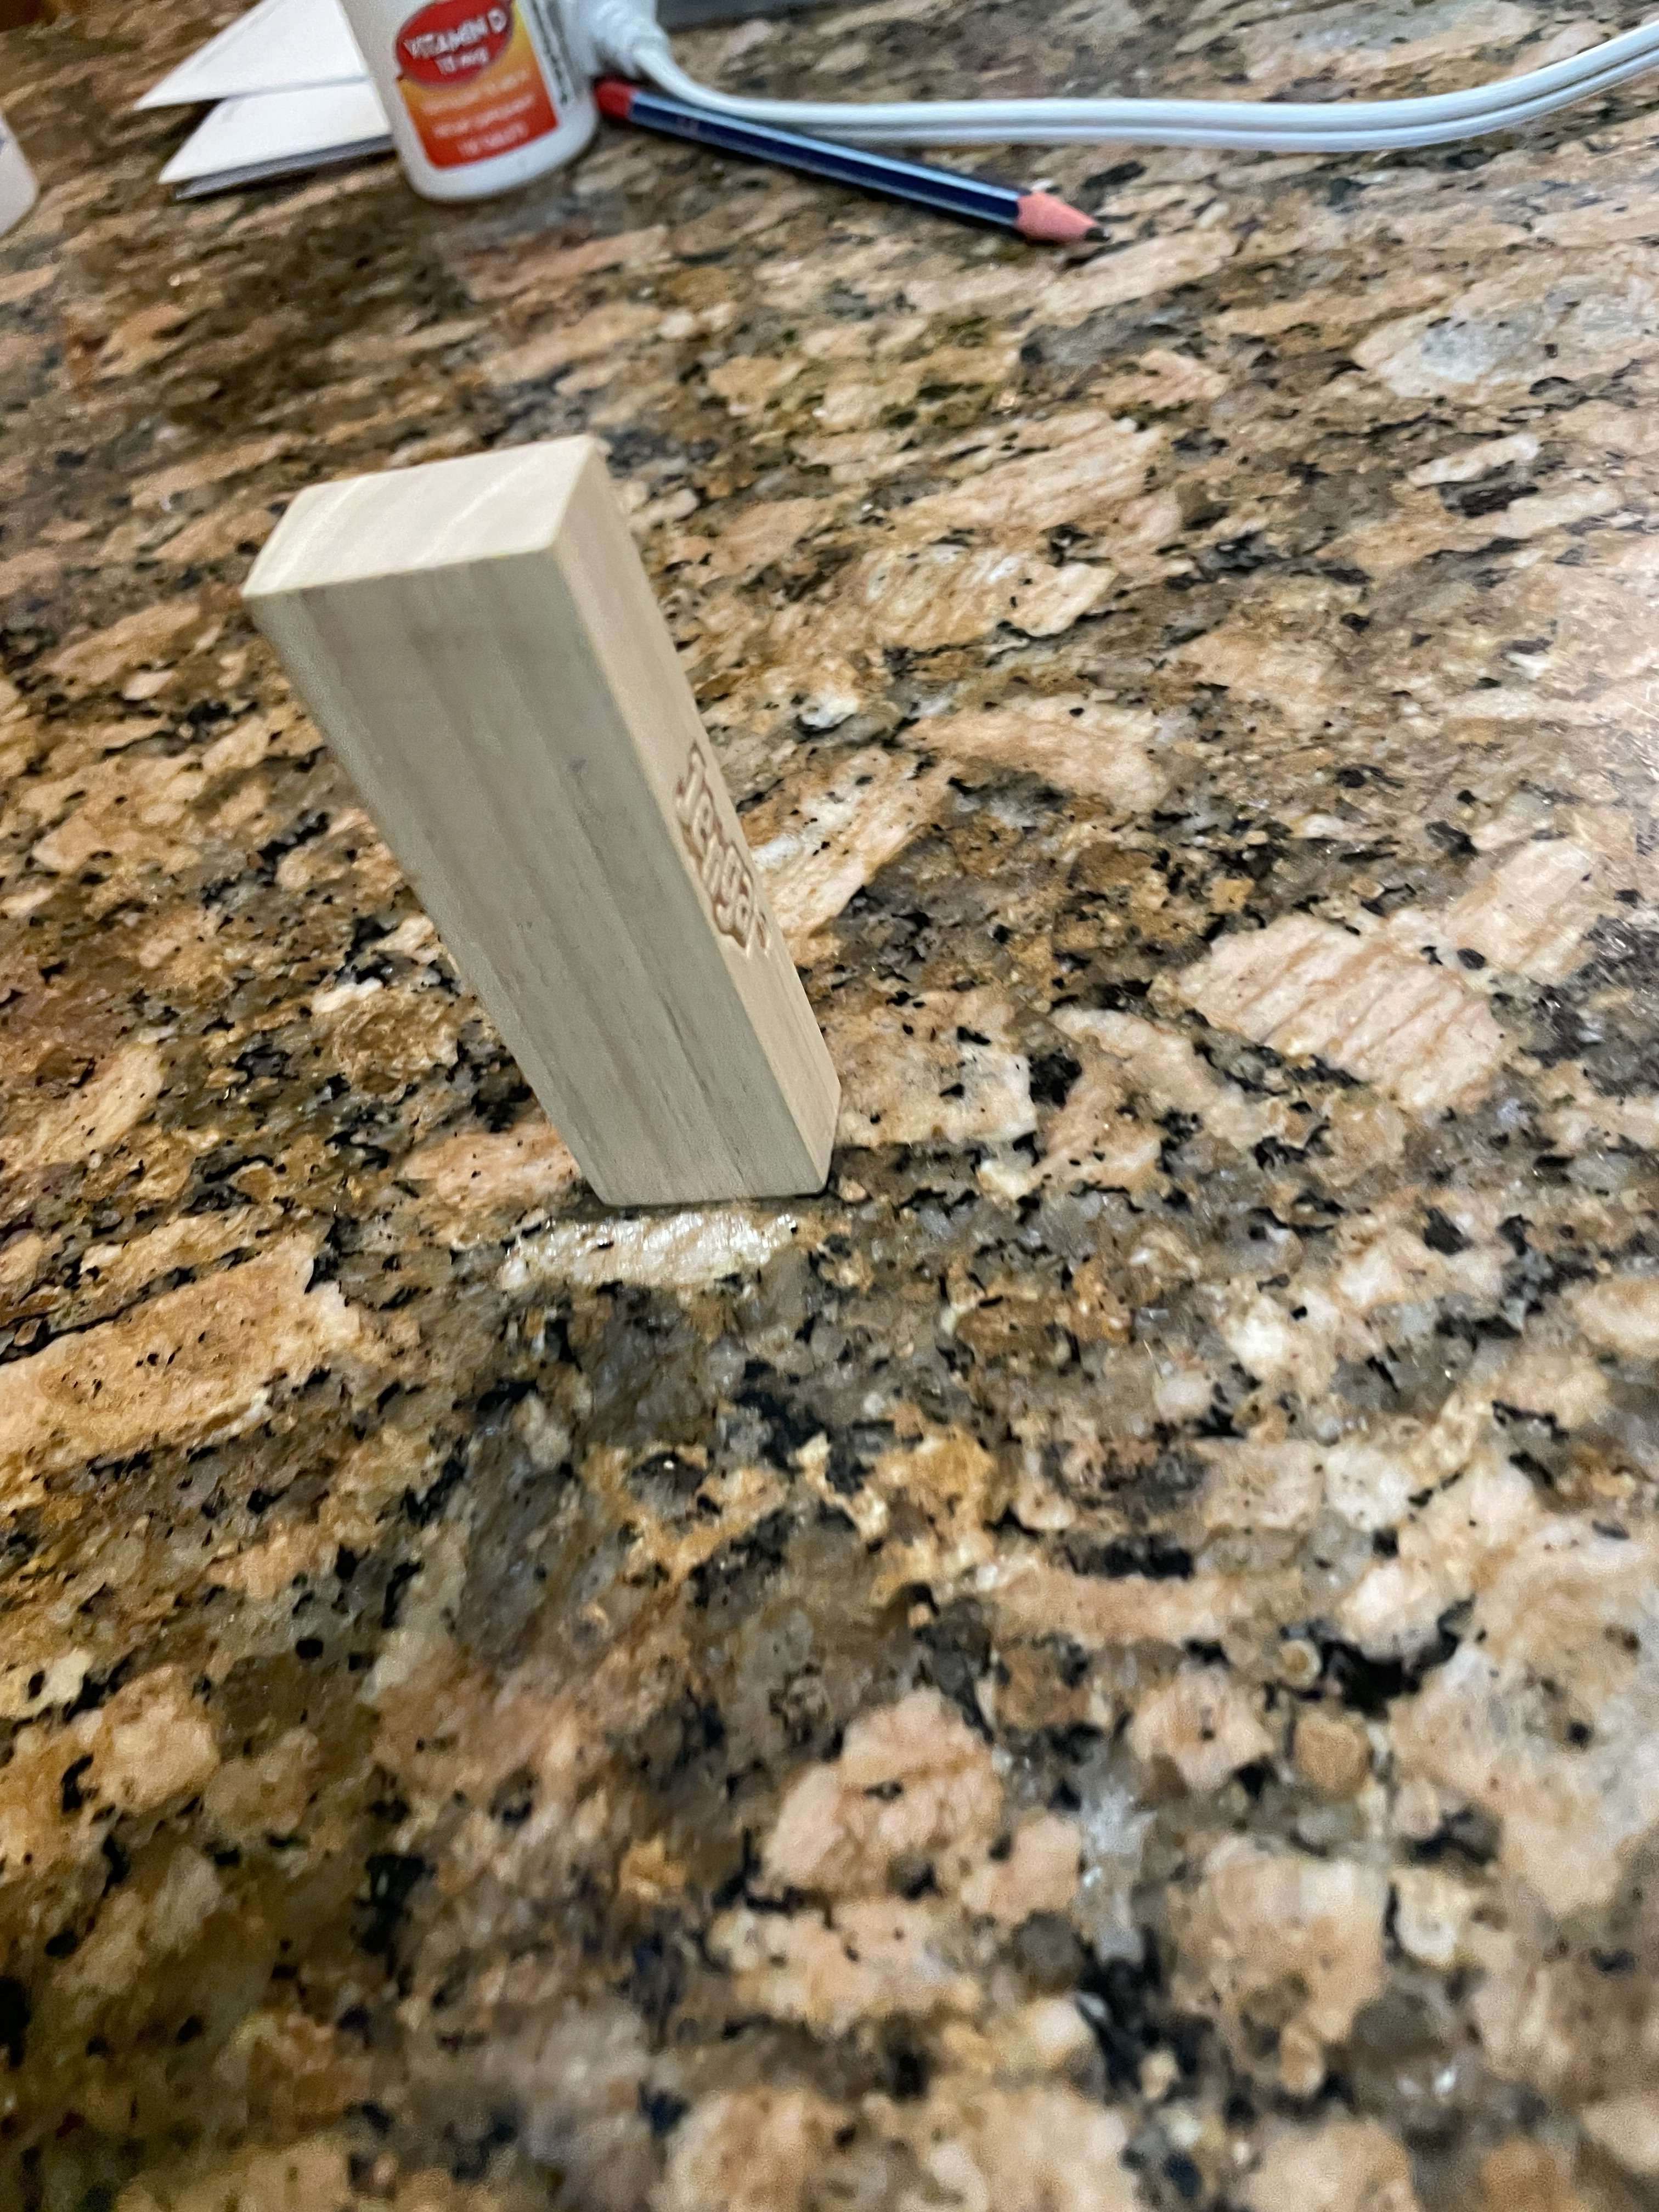jenga: (260, 472, 878, 1209)
